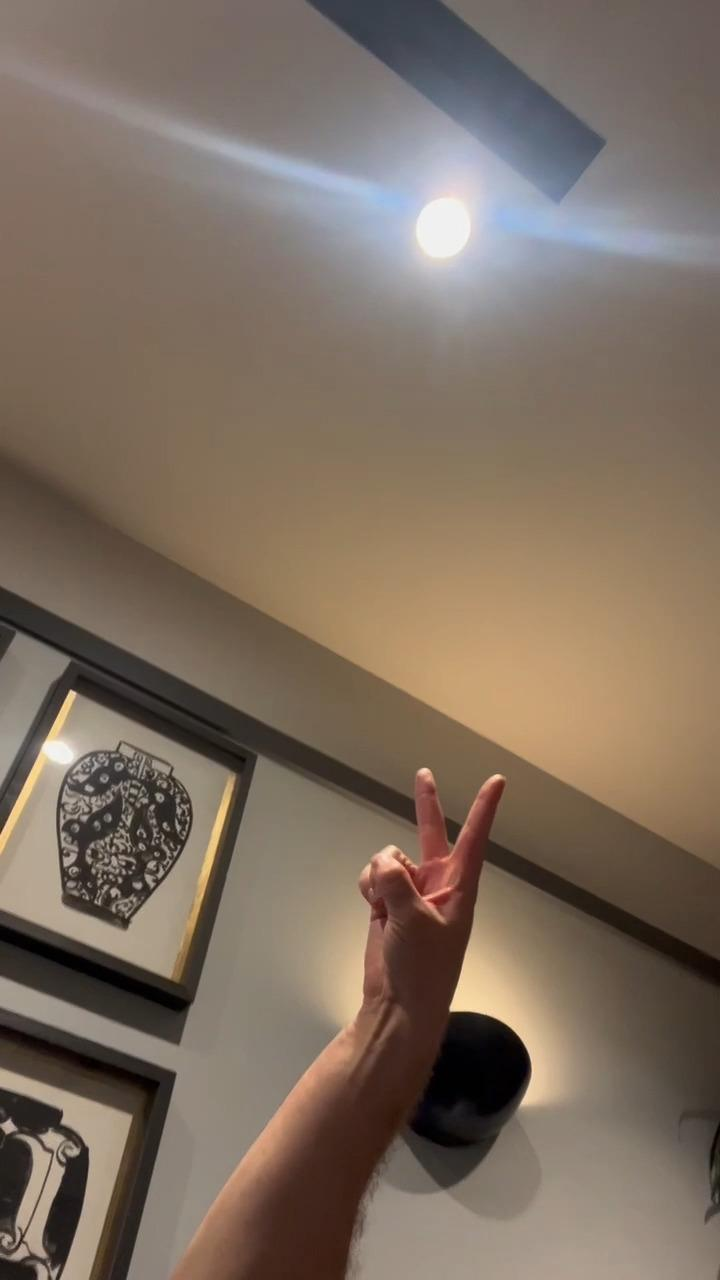Scissors: (342, 763, 505, 1047)
